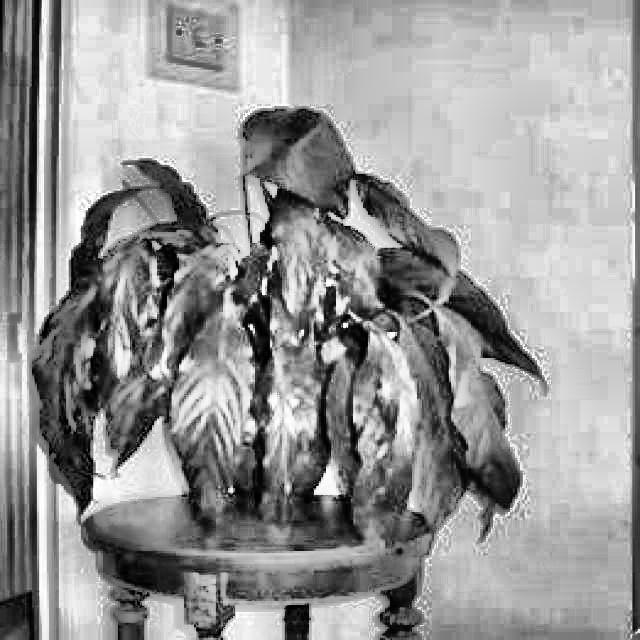plants: (42, 195, 548, 555)
